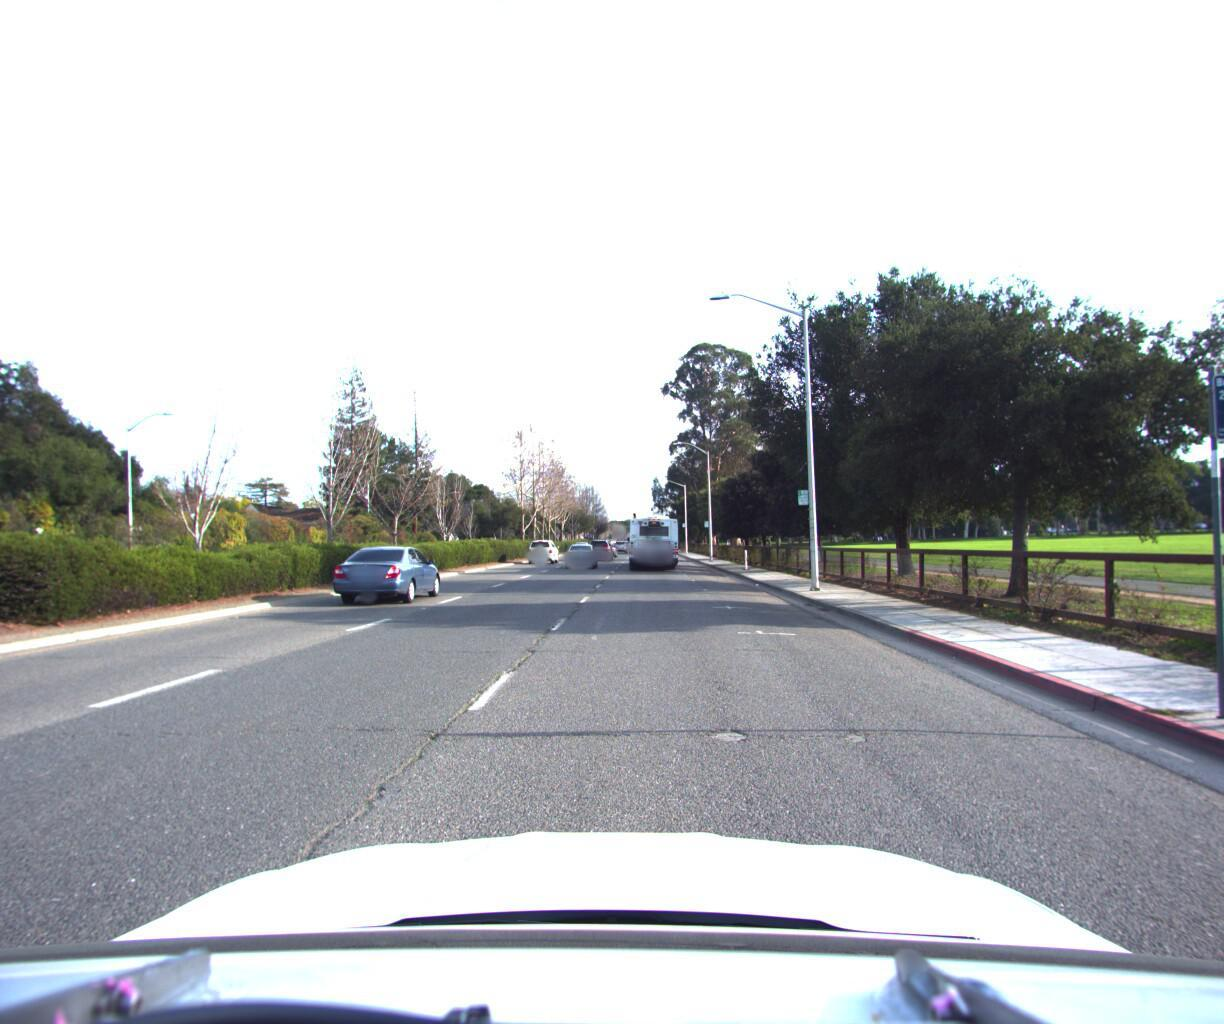bus: (623, 505, 681, 568)
car: (328, 538, 446, 609), (561, 536, 598, 564), (528, 535, 560, 560), (591, 532, 617, 555)
